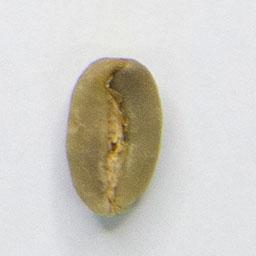longberry: (62, 55, 164, 221)
